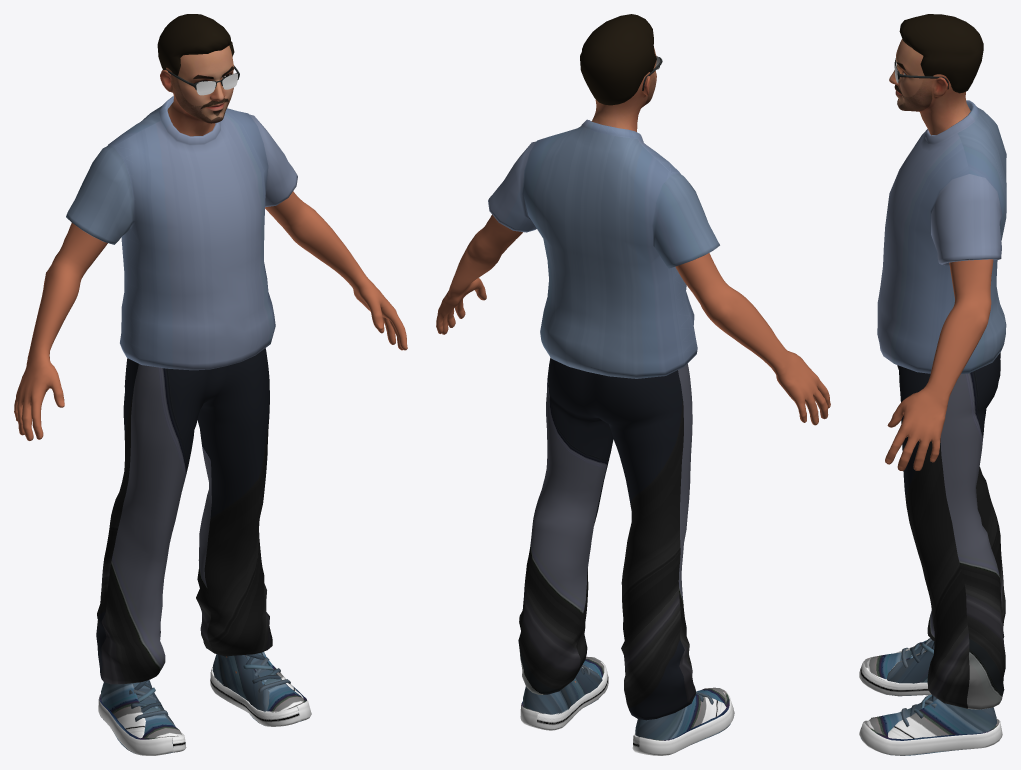
File: avatar.fbx
3 renders of one model, left to right at view 1: azimuth 30°, elevation 25°; view 2: azimuth 150°, elevation 25°; view 3: azimuth 270°, elevation 25°, orthographic.
Parts seen in each view (by area): view 1: Wolf3D_Outfit_Top, Wolf3D_Outfit_Bottom, Wolf3D_Body, Wolf3D_Outfit_Footwear, Wolf3D_Head, Wolf3D_Hair; view 2: Wolf3D_Outfit_Bottom, Wolf3D_Outfit_Top, Wolf3D_Body, Wolf3D_Outfit_Footwear, Wolf3D_Hair, Wolf3D_Head; view 3: Wolf3D_Outfit_Bottom, Wolf3D_Outfit_Top, Wolf3D_Outfit_Footwear, Wolf3D_Body, Wolf3D_Hair, Wolf3D_Head.
Part boxes in pixels (x1,y1,x2,y2): Wolf3D_Outfit_Top: [66, 96, 297, 370]; Wolf3D_Outfit_Bottom: [96, 348, 272, 684]; Wolf3D_Body: [14, 191, 407, 673]; Wolf3D_Outfit_Footwear: [98, 652, 311, 755]; Wolf3D_Head: [160, 45, 233, 136]; Wolf3D_Hair: [157, 14, 234, 75]; Wolf3D_Outfit_Bottom: [518, 357, 695, 720]; Wolf3D_Outfit_Top: [488, 119, 719, 378]; Wolf3D_Body: [436, 214, 830, 682]; Wolf3D_Outfit_Footwear: [520, 656, 734, 755]; Wolf3D_Hair: [580, 14, 656, 105]; Wolf3D_Head: [591, 48, 656, 131]; Wolf3D_Outfit_Bottom: [897, 352, 1005, 709]; Wolf3D_Outfit_Top: [877, 100, 1006, 373]; Wolf3D_Outfit_Footwear: [859, 638, 1002, 755]; Wolf3D_Body: [885, 259, 993, 470]; Wolf3D_Hair: [899, 14, 983, 93]; Wolf3D_Head: [889, 39, 970, 135].
Bounding box in the file's own units: 1.06 × 1.87 × 0.3565.
9 materials, 9 textured.
